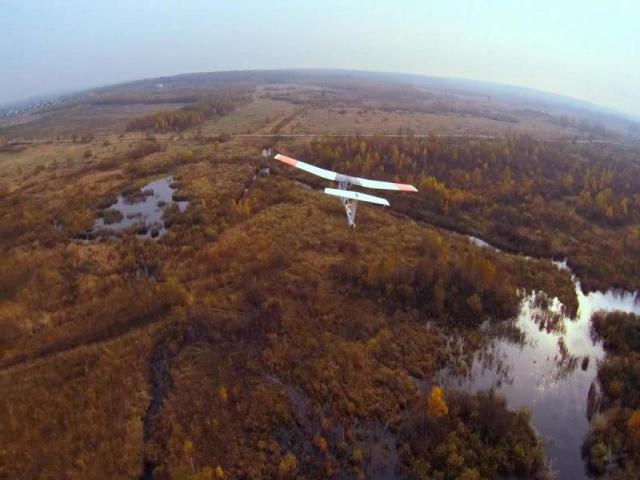hedef: (258, 139, 420, 232)
